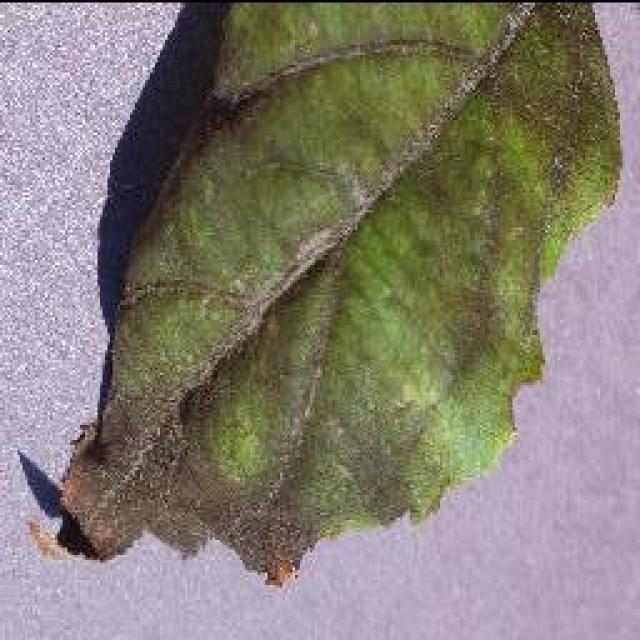apple scab disease: (27, 0, 625, 588)
